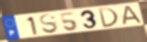1: (26, 16, 39, 36)
3: (79, 9, 100, 30)
5: (59, 11, 79, 32)
A: (121, 5, 144, 26)
D: (97, 7, 120, 28)
S: (38, 13, 60, 34)
